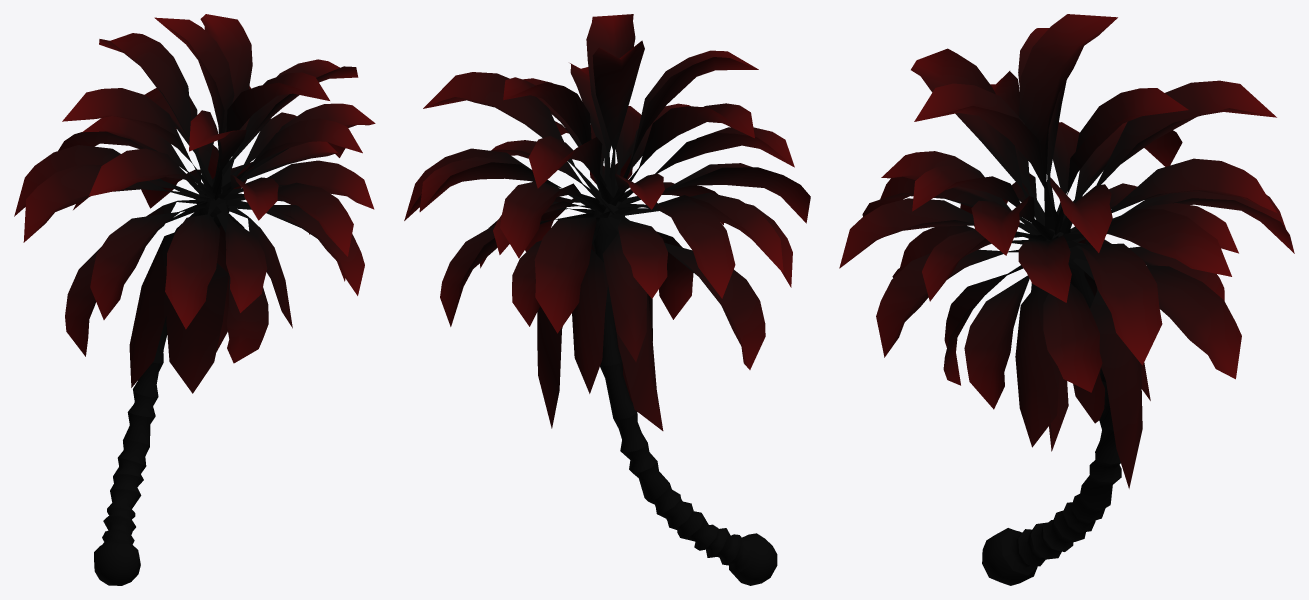
Rendered from TFD_Palm_Tree_03A.fbx.
3 views of the same model, side by side, from view 1: azimuth 30°, elevation 25°; view 2: azimuth 150°, elevation 25°; view 3: azimuth 270°, elevation 25° (orthographic). The views are drawn at different scales.
Visible parts, largest first — view 1: TFD_Palm_Tree_03A_LOD0; view 2: TFD_Palm_Tree_03A_LOD0; view 3: TFD_Palm_Tree_03A_LOD0.
Boxes of the visible parts, <box> form: TFD_Palm_Tree_03A_LOD0: <box>14,14,375,585</box>; TFD_Palm_Tree_03A_LOD0: <box>404,14,810,585</box>; TFD_Palm_Tree_03A_LOD0: <box>839,14,1294,585</box>.
Bounding box in the file's own units: 334 × 483 × 324.
